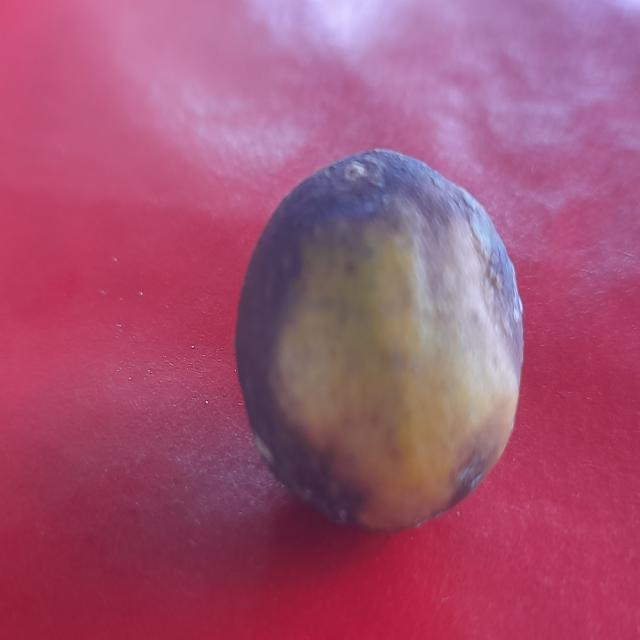black spot: (236, 149, 526, 527)
